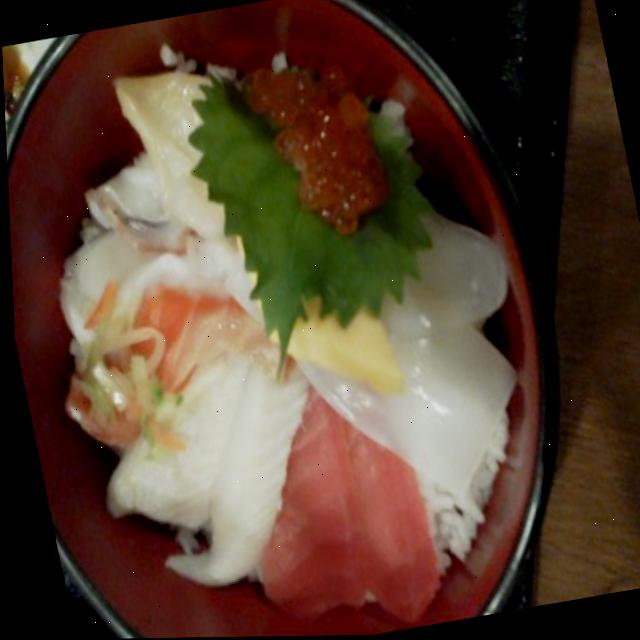刺身生食: (0, 0, 602, 640)
